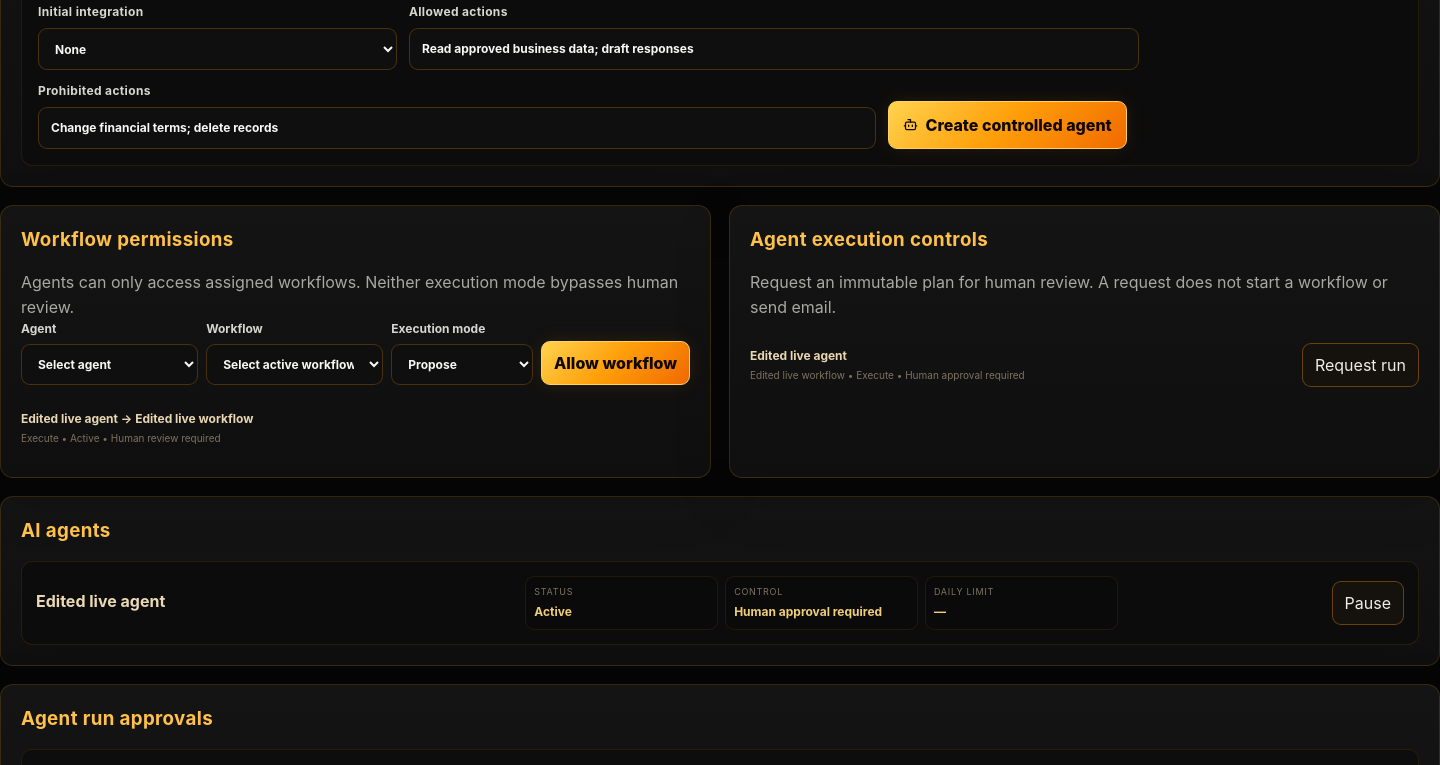
agent human review and immutable plan › removes confidence authority and sends only the proposal contract
The width and height of the screenshot is (1440, 765).
(page scrolled)
Click the button "Request run".
click(1360, 364)  # box 1302,342 -> 1419,386
(page scrolled)
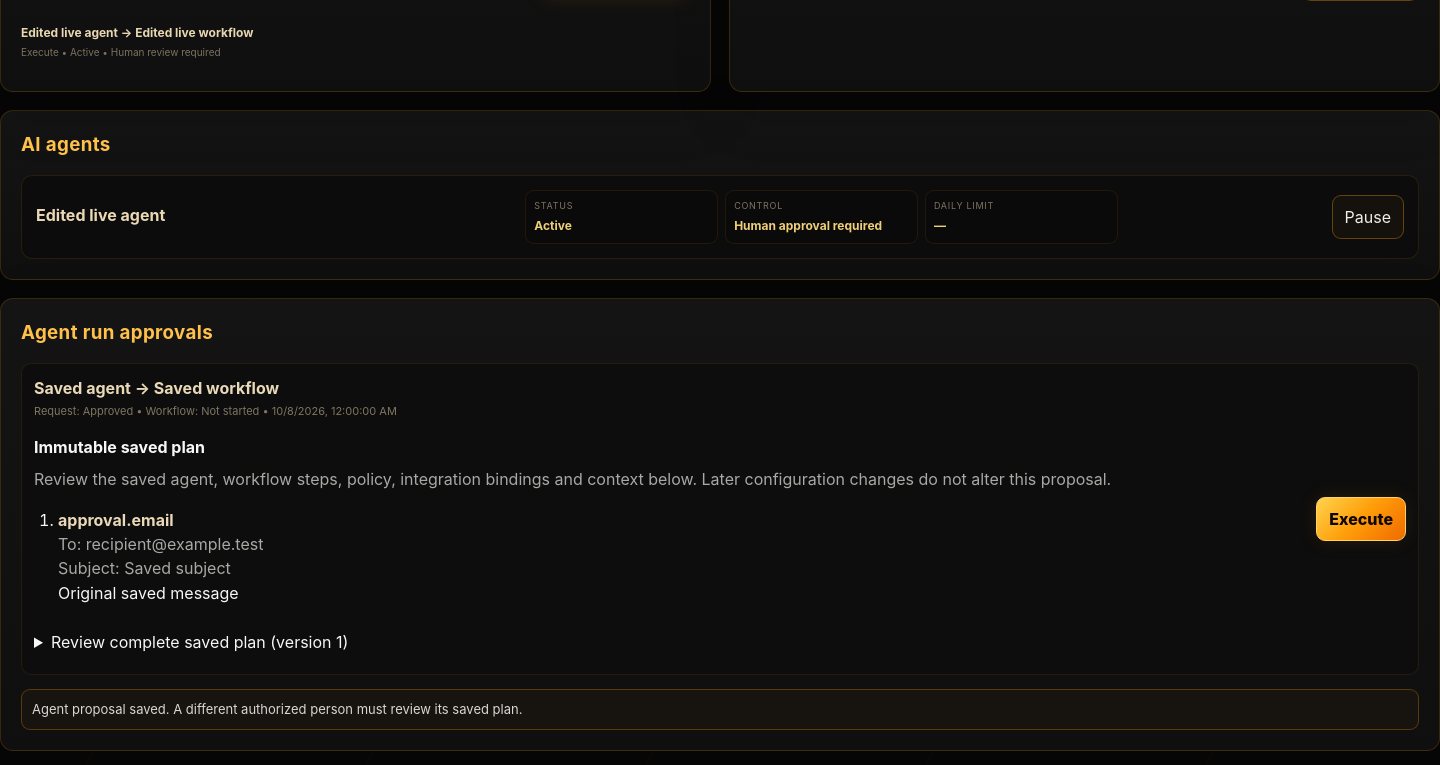
Result: the message shows "different authorized person" at 32,701 -> 522,717
